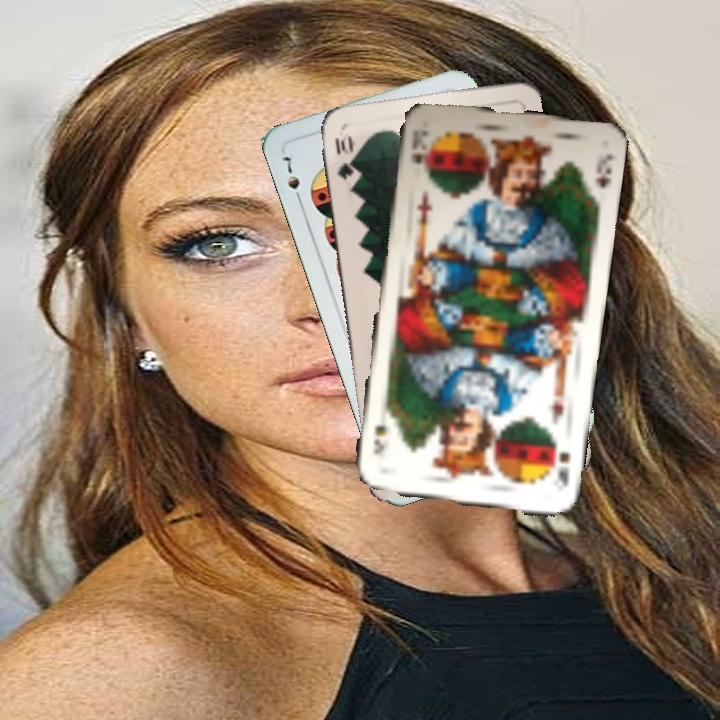G10: (331, 129, 357, 183)
S7: (277, 152, 305, 207)
SK: (548, 436, 574, 488), (407, 126, 432, 176)
